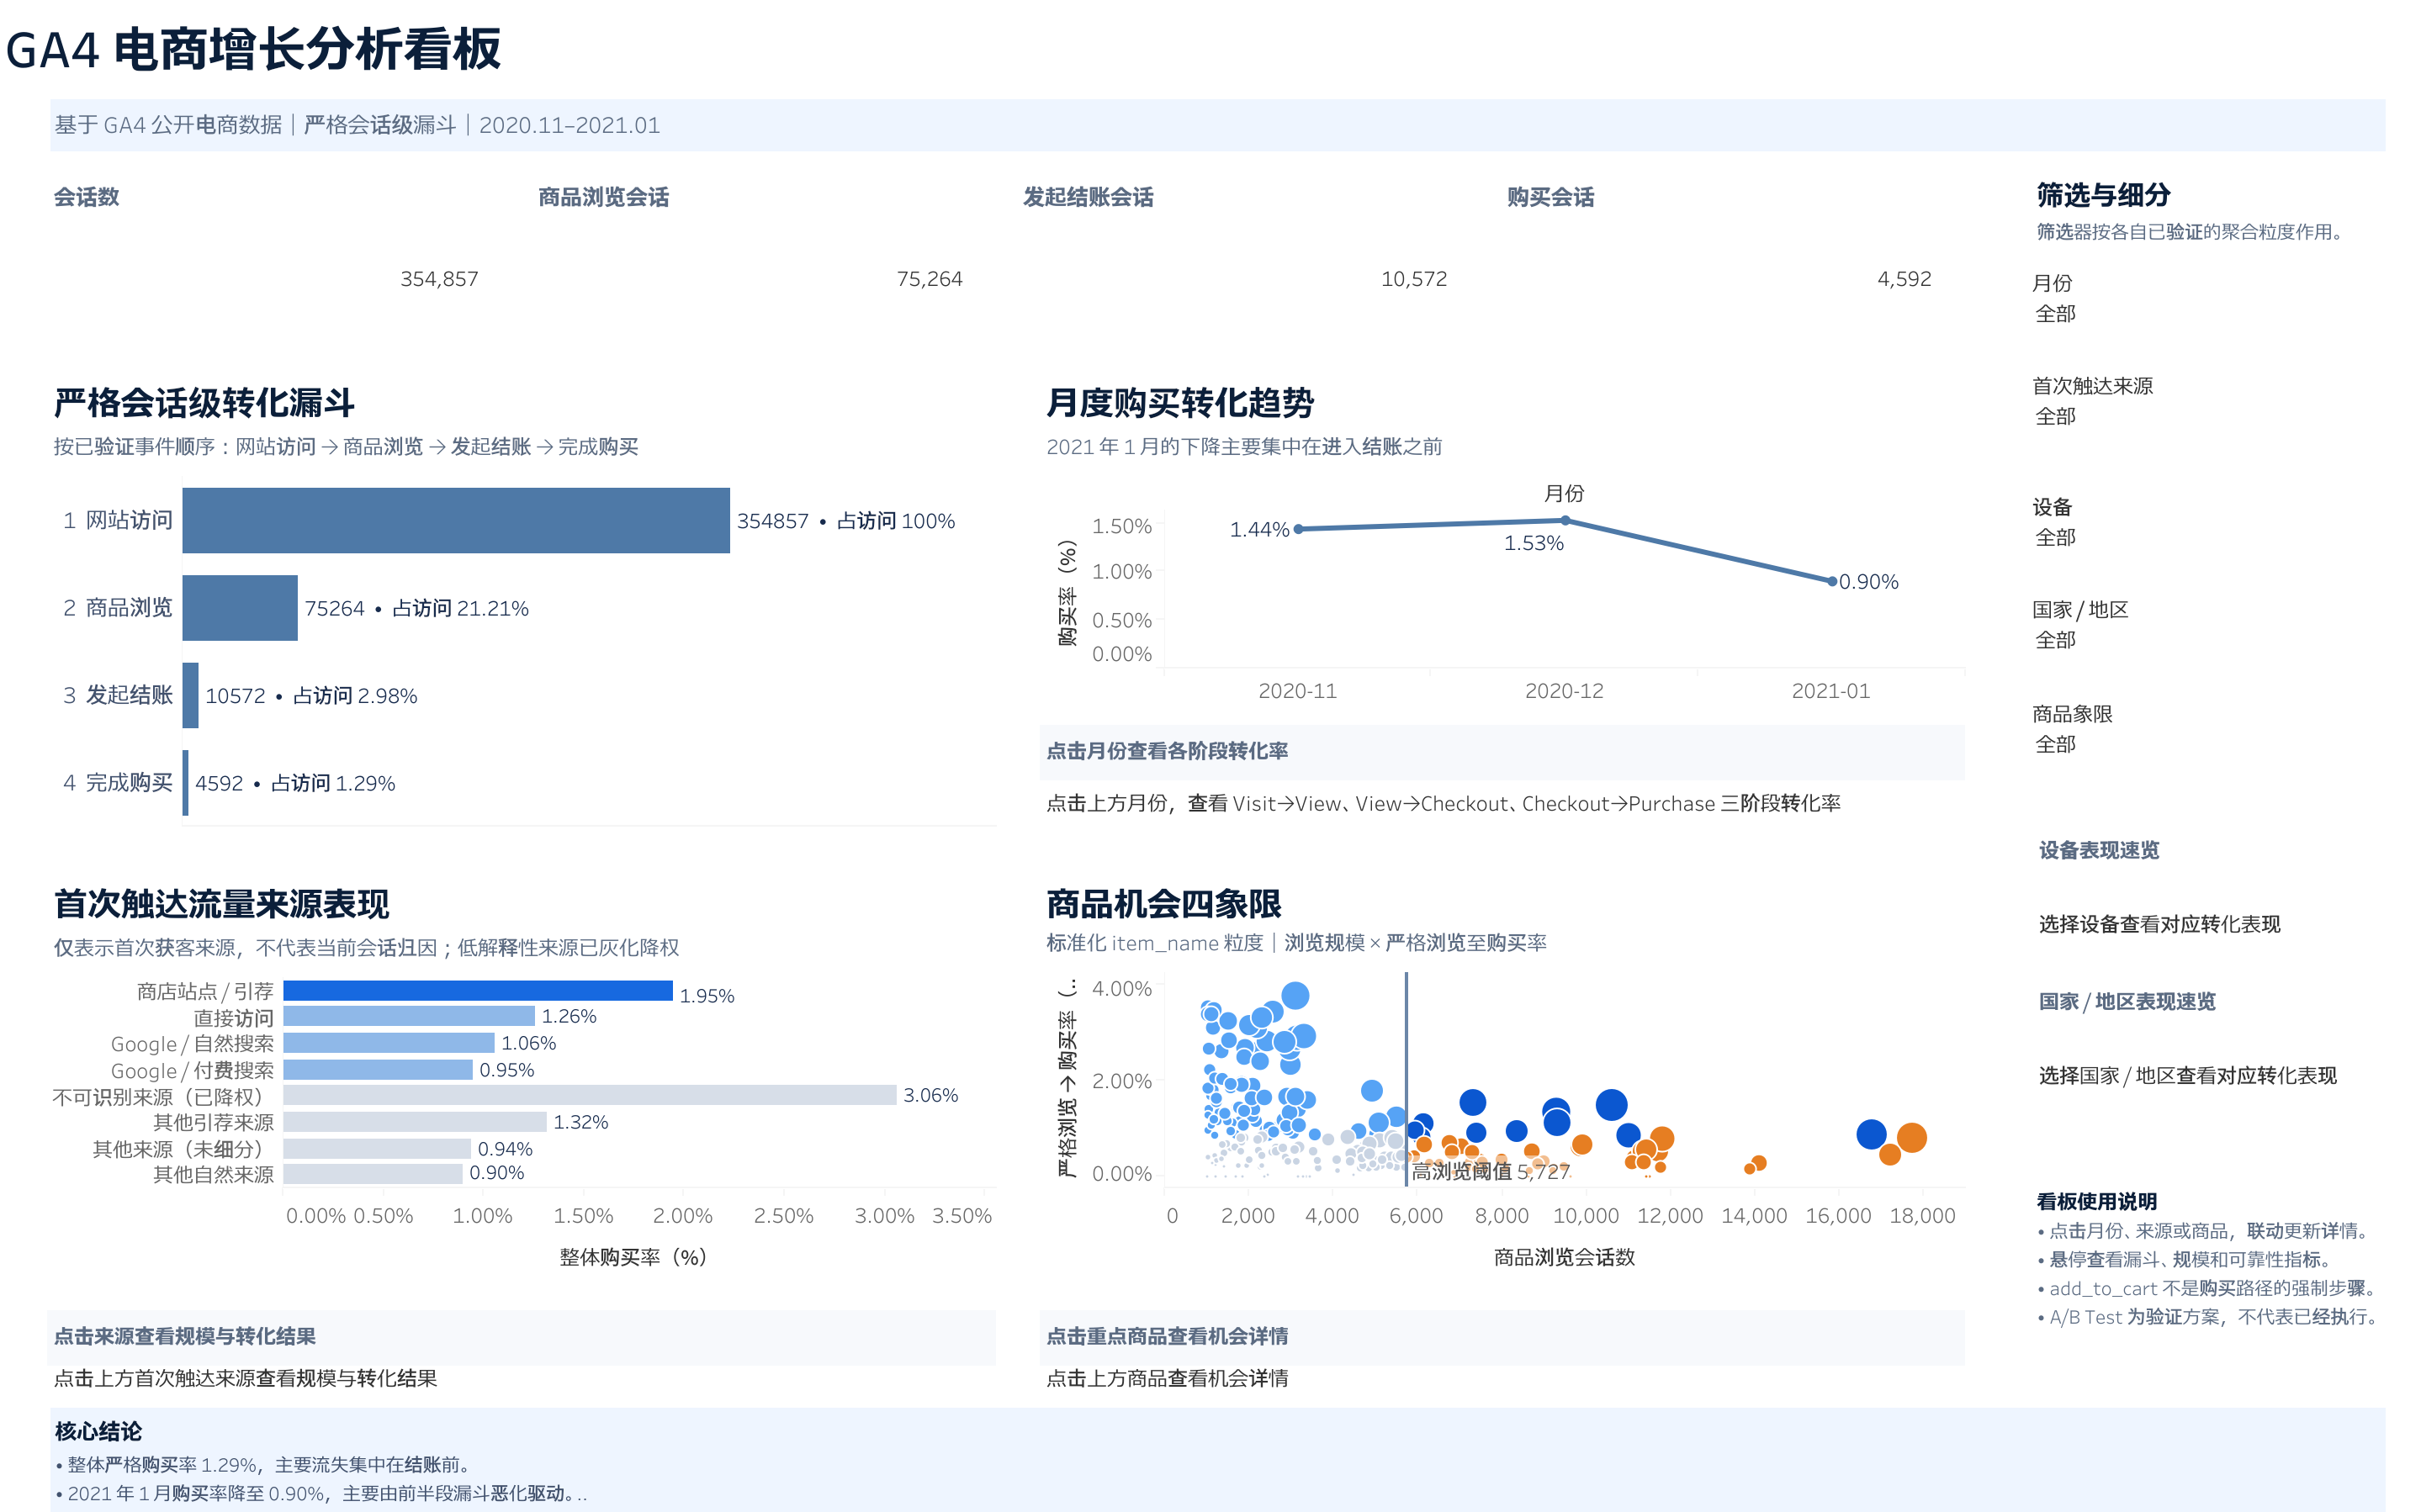

The page's visual inventory and layout, read from the dashboard file:
{"tool":"tableau","page":{"name":"GA4 E-commerce Overview","canvas":[1440,900],"ordinal":0},"visuals":[{"type":"title","box":[0,0,1440,58.5]},{"type":"text","box":[21.6,58.5,1396.8,31.5]},{"type":"worksheet","title":"KPI Sessions","mark":"Text","box":[21.6,94.5,273.6,103.5]},{"type":"worksheet","title":"KPI Product Views","mark":"Text","box":[309.6,94.5,273.6,103.5]},{"type":"worksheet","title":"KPI Checkouts","mark":"Text","box":[597.6,94.5,273.6,103.5]},{"type":"worksheet","title":"KPI Purchases","mark":"Text","box":[885.6,94.5,273.6,103.5]},{"type":"text","box":[1216.8,103.5,194.4,45]},{"type":"filter","title":"Monthly Conversion Trend","param":"[ds_month].[none:month:nk]","box":[1216.8,157.5,194.4,54]},{"type":"worksheet","title":"Strict Conversion Funnel","mark":"Bar","rows":["Stage Label"],"cols":["session_count"],"box":[21.6,211.5,576,283.5]},{"type":"worksheet","title":"Monthly Conversion Trend","mark":"Line","rows":["overall_purchase_rate_pct"],"cols":["month"],"box":[612,211.5,561.6,211.5]},{"type":"filter","title":"First-touch Source Performance","param":"[ds_source].[none:来源展示名称:nk]","box":[1216.8,216,194.4,63]},{"type":"filter","title":"Device Insight","param":"[ds_device].[none:device_category:nk]","box":[1216.8,283.5,194.4,54]},{"type":"filter","title":"Country Insight","param":"[ds_country].[none:country:nk]","box":[1216.8,342,194.4,54]},{"type":"filter","title":"Product Opportunity Matrix","param":"[ds_product].[none:product_quadrant:nk]","box":[1216.8,400.5,194.4,63]},{"type":"worksheet","title":"Monthly Detail","mark":"Text","box":[612,423,561.6,72]},{"type":"worksheet","title":"Device Insight","mark":"Text","box":[1216.8,472.5,194.4,81]},{"type":"worksheet","title":"First-touch Source Performance","mark":"Bar","rows":["来源展示名称"],"cols":["overall_purchase_rate_pct"],"box":[21.6,508.5,576,256.5]},{"type":"worksheet","title":"Product Opportunity Matrix","mark":"Circle","rows":["strict_view_to_purchase_rate_pct"],"cols":["view_session_items"],"box":[612,508.5,561.6,256.5]},{"type":"worksheet","title":"Country Insight","mark":"Text","box":[1216.8,558,194.4,81]},{"type":"text","box":[1216.8,643.5,194.4,148.5]},{"type":"worksheet","title":"Source Detail","mark":"Text","box":[21.6,769.5,576,58.5]},{"type":"worksheet","title":"Product Detail","mark":"Text","box":[612,769.5,561.6,58.5]},{"type":"text","box":[21.6,832.5,1396.8,63]}]}

Visuals, with their boxes in screenshot pixels (x1, y1, x2, y2), scaled from the page's 1440x900 canvas onto the 2421x1512 screenshot:
title: l=0, t=0, r=2420, b=98
text: l=36, t=98, r=2385, b=151
"KPI Sessions" worksheet (Text marks): l=36, t=159, r=496, b=333
"KPI Product Views" worksheet (Text marks): l=521, t=159, r=981, b=333
"KPI Checkouts" worksheet (Text marks): l=1004, t=159, r=1465, b=333
"KPI Purchases" worksheet (Text marks): l=1489, t=159, r=1949, b=333
text: l=2046, t=174, r=2372, b=250
"Monthly Conversion Trend" filter: l=2046, t=265, r=2372, b=356
"Strict Conversion Funnel" worksheet (Bar marks): l=36, t=356, r=1004, b=832
"Monthly Conversion Trend" worksheet (Line marks): l=1029, t=356, r=1973, b=711
"First-touch Source Performance" filter: l=2046, t=363, r=2372, b=468
"Device Insight" filter: l=2046, t=476, r=2372, b=567
"Country Insight" filter: l=2046, t=574, r=2372, b=665
"Product Opportunity Matrix" filter: l=2046, t=673, r=2372, b=779
"Monthly Detail" worksheet (Text marks): l=1029, t=711, r=1973, b=832
"Device Insight" worksheet (Text marks): l=2046, t=794, r=2372, b=930
"First-touch Source Performance" worksheet (Bar marks): l=36, t=854, r=1004, b=1285
"Product Opportunity Matrix" worksheet (Circle marks): l=1029, t=854, r=1973, b=1285
"Country Insight" worksheet (Text marks): l=2046, t=938, r=2372, b=1074
text: l=2046, t=1081, r=2372, b=1330
"Source Detail" worksheet (Text marks): l=36, t=1293, r=1004, b=1391
"Product Detail" worksheet (Text marks): l=1029, t=1293, r=1973, b=1391
text: l=36, t=1398, r=2385, b=1504
